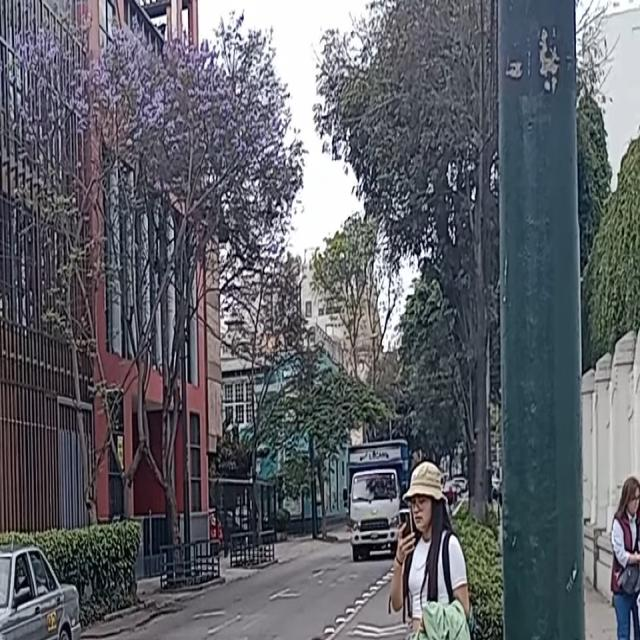car: (0, 546, 81, 640)
truck: (348, 442, 405, 557)
